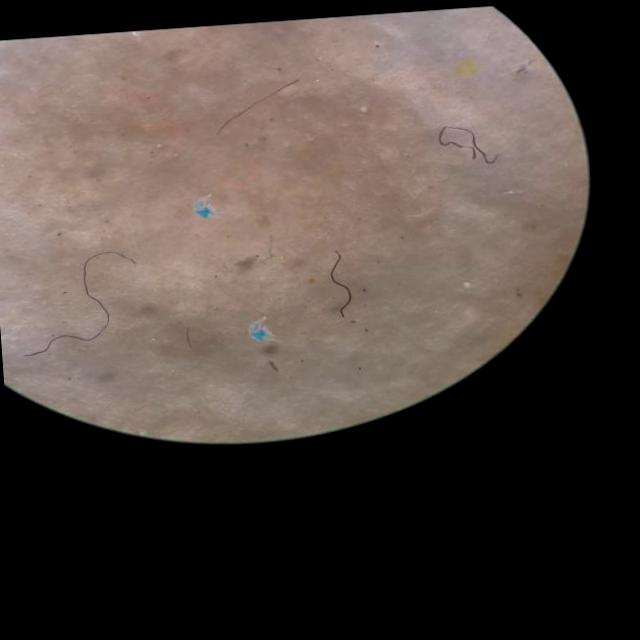fiber: (29, 251, 133, 354), (219, 81, 299, 133), (440, 127, 497, 163), (331, 252, 351, 318)
film: (249, 321, 270, 341), (196, 200, 213, 218)
fragment: (457, 61, 478, 78)
pellet: (360, 105, 367, 112), (464, 282, 470, 288)
